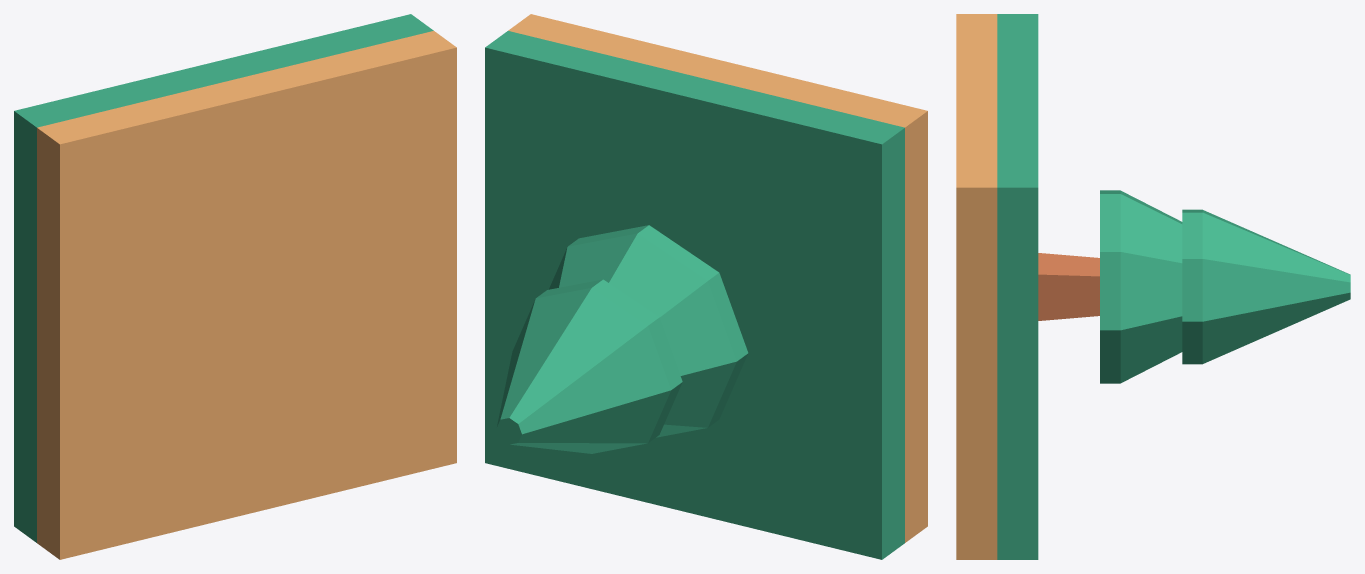
Rendered from tile_tree.obj.
3 renders of one model, left to right at view 1: azimuth 30°, elevation 25°; view 2: azimuth 150°, elevation 25°; view 3: azimuth 270°, elevation 25°, orthographic. The views are drawn at different scales.
Parts seen in each view (by area): view 1: tile_tree; view 2: tile_tree; view 3: tile_tree.
Boxes of the visible parts, box(x1,y1,x2,y2) form: tile_tree: box(14, 14, 456, 559); tile_tree: box(485, 14, 927, 559); tile_tree: box(956, 14, 1350, 559).
Size of the model in its own units: 1 by 1 by 0.96.
